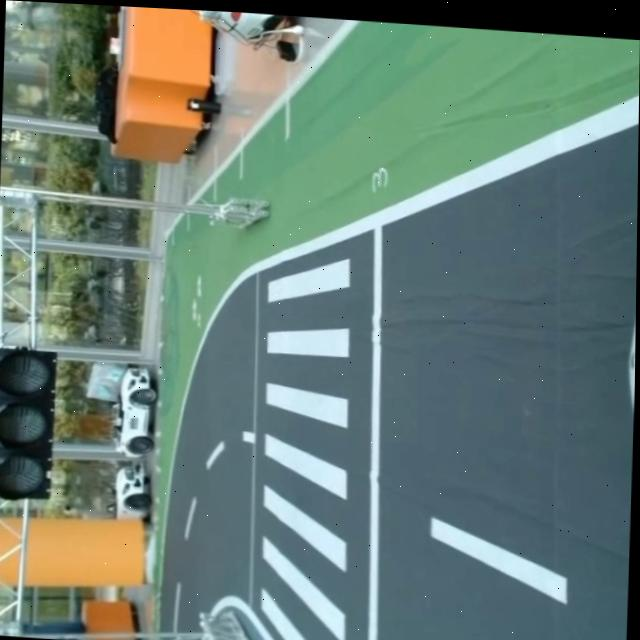traffic-light: (0, 336, 61, 508)
